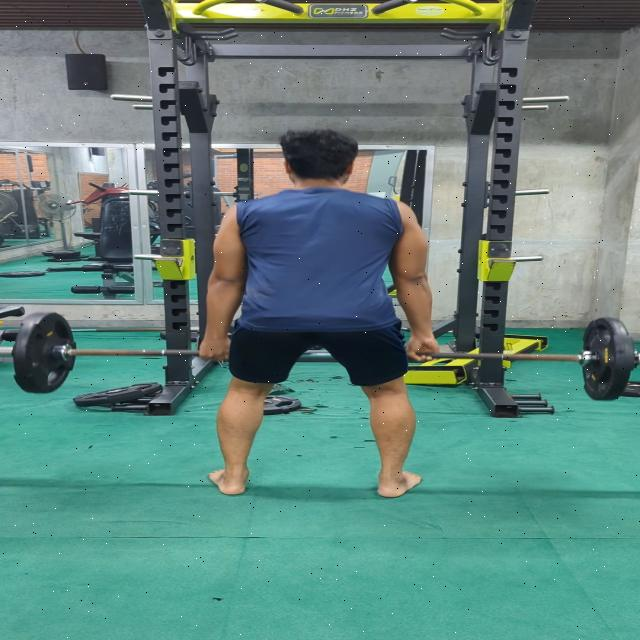Normal_Deadlifts: (193, 128, 449, 504)
